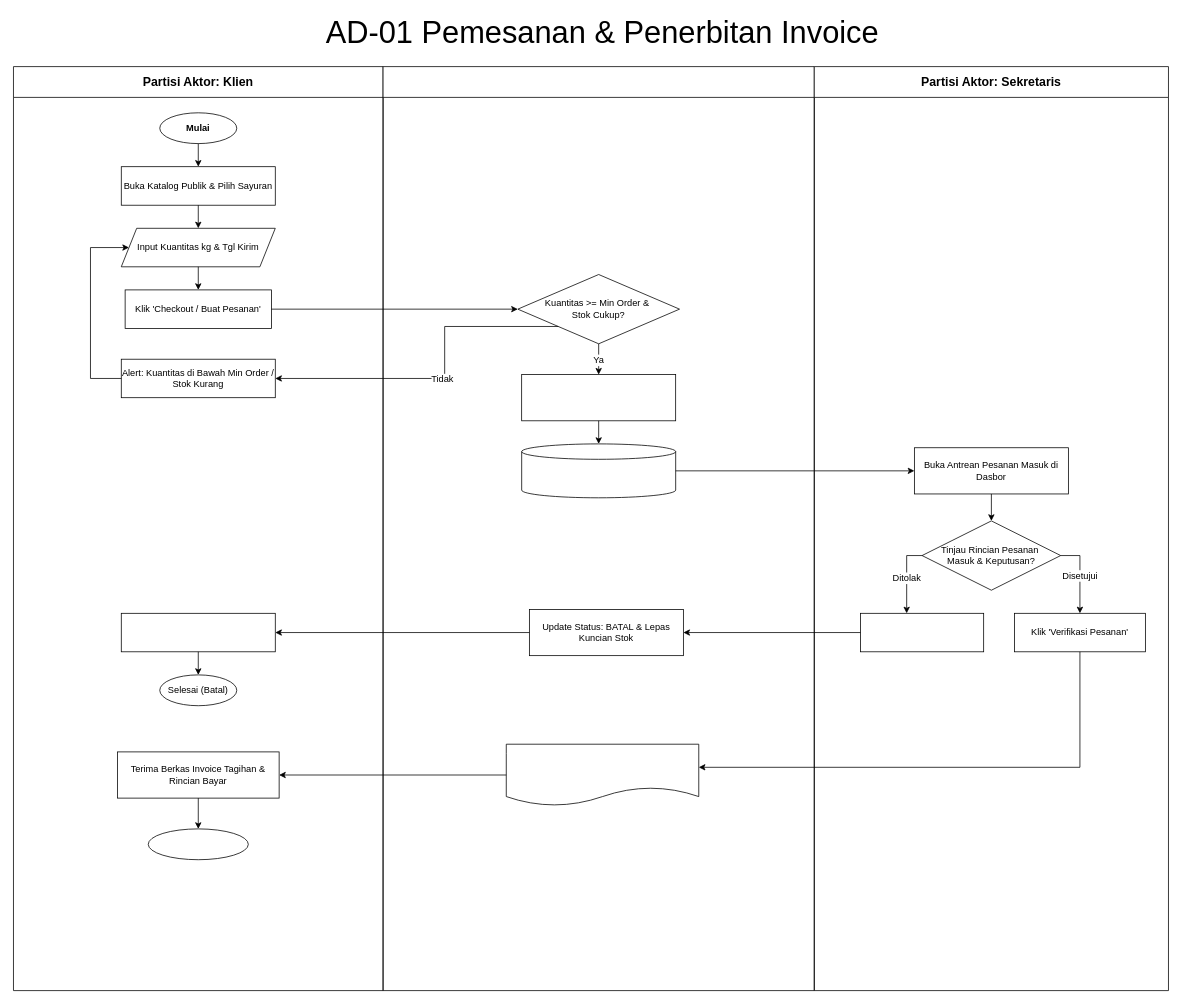
Image size: 1182x1004. Some labels were removed from this diagram. The shapes that lost their labels are listed below. From the top down, each one's box as (x1, y1, x2, y2) in pixels, then its label:
(521, 374, 676, 421): Kunci Alokasi Kuota Stok Sementara (Row-Lock)
(521, 443, 676, 498): Simpan Pesanan: Status MENUNGGU_VERIFIKASI
(382, 66, 814, 991): Partisi Sistem (Laravel & DB)
(121, 613, 275, 652): Terima Notifikasi: Pesanan Batal
(860, 613, 984, 652): Klik 'Tolak Pesanan'
(506, 743, 699, 806): Update Status: MENUNGGU_PEMBAYARAN & Generate Dokumen Invoice PDF
(147, 828, 248, 860): Selesai (Siap Bayar)
